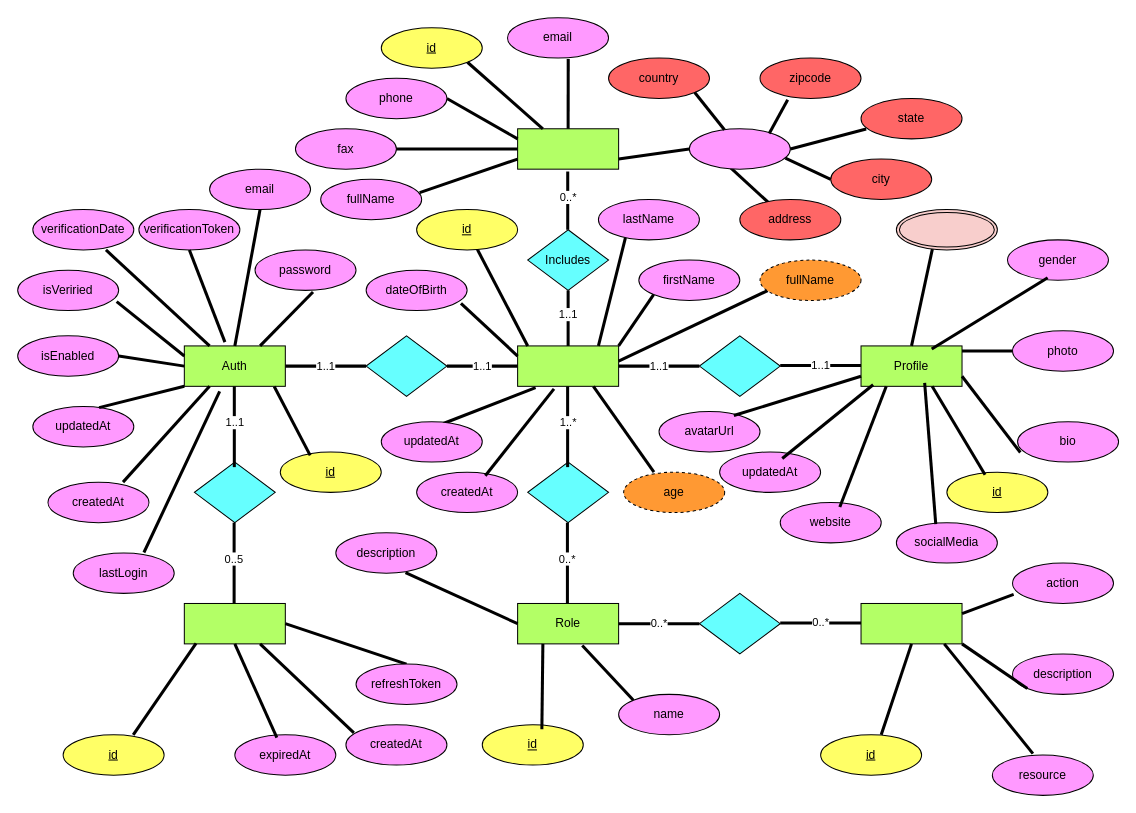
The diagram is 1136 pixels wide and 813 high, and some of its shapes have lost their labels. Each missing label, with the centre of its shape:
Assigned: the point at 568,492
Belongs To: the point at 406,365
Contact: the point at 568,148
Generates: the point at 234,492
Grants: the point at 739,623
Linked: the point at 739,365
Location: the point at 739,148
Permission: the point at 911,623
preferences: the point at 946,229
Session: the point at 234,623
User: the point at 568,365
